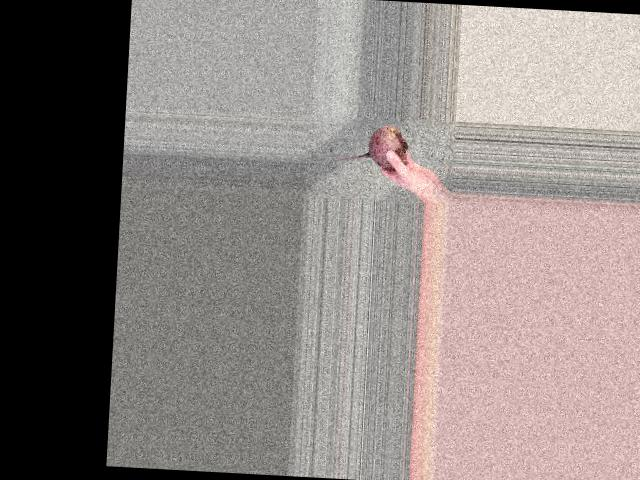beet: (329, 122, 409, 168)
